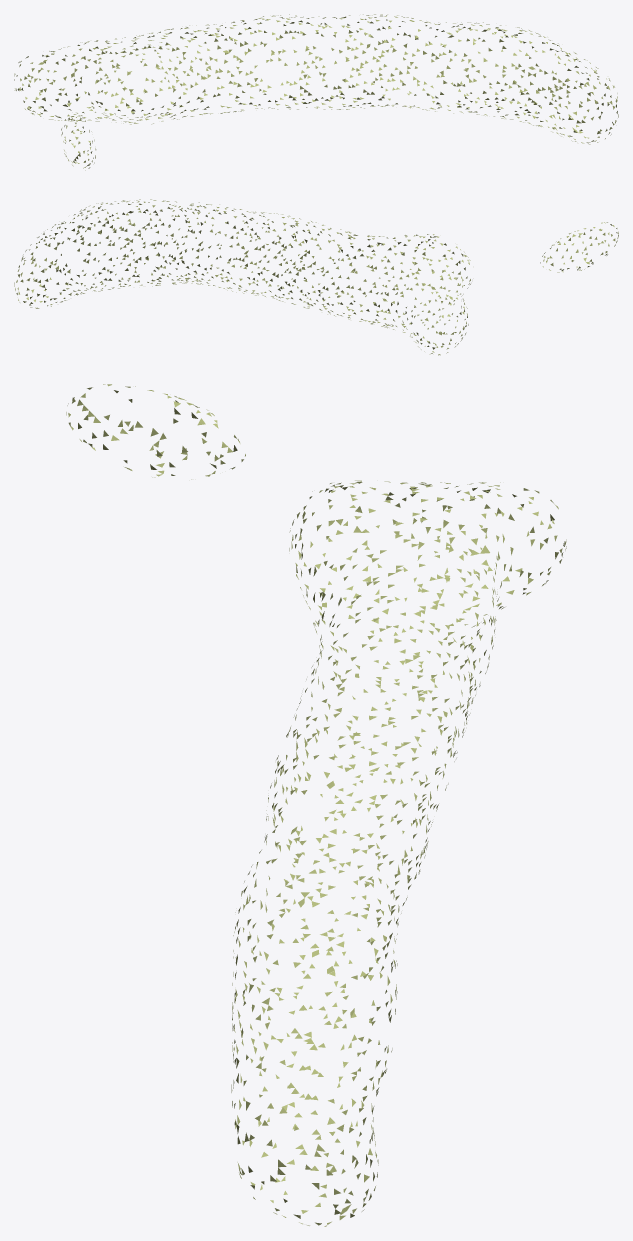
The model's file is morph_010.glb.
3 views of the same model, one above another, from view 1: azimuth 30°, elevation 25°; view 2: azimuth 150°, elevation 25°; view 3: azimuth 270°, elevation 25° (orthographic). The views are drawn at different scales.
Bounding box in the file's own units: 110 × 33.56 × 44.1.
